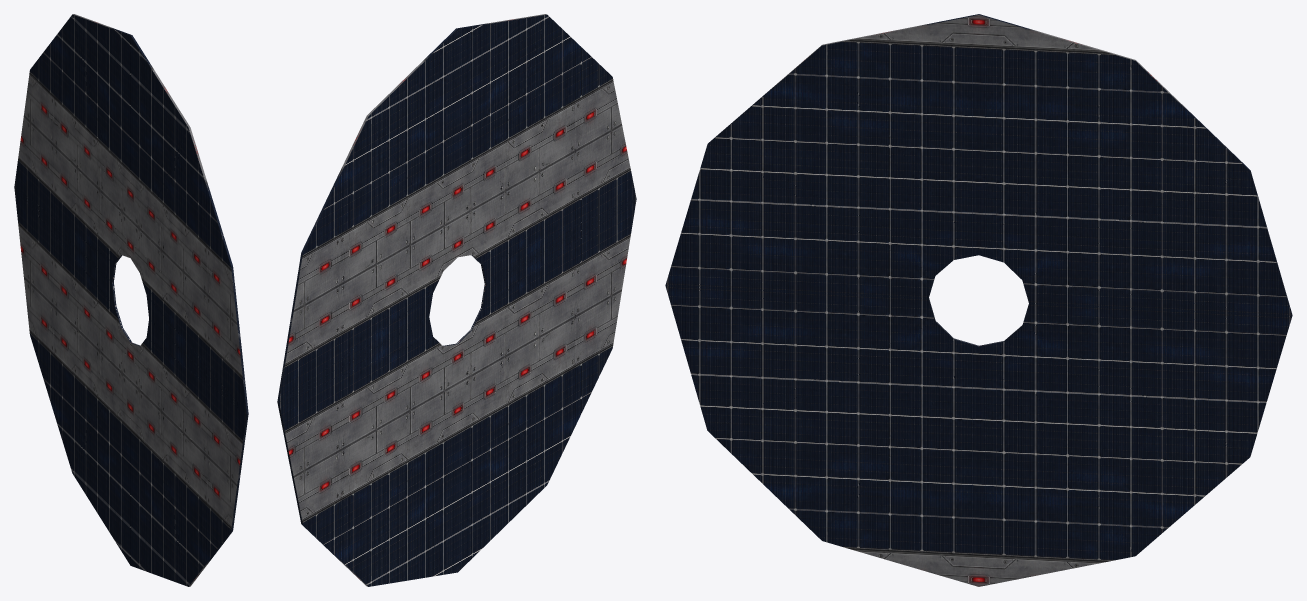
Rendered from satelite_01_panel_02.obj.
The picture shows the model from 3 angles, left to right: view 1: azimuth 30°, elevation 25°; view 2: azimuth 150°, elevation 25°; view 3: azimuth 270°, elevation 25°; orthographic projection. The views are drawn at different scales.
Visible parts, largest first — view 1: orbital1_panel_1; view 2: orbital1_panel_1; view 3: orbital1_panel_1.
Part boxes in pixels (x1,y1,x2,y2): orbital1_panel_1: (14, 14, 248, 586); orbital1_panel_1: (277, 14, 636, 586); orbital1_panel_1: (665, 14, 1292, 586).
Bounding box in the file's own units: 0.0536 × 0.4518 × 0.449.
1 material, 1 textured.
